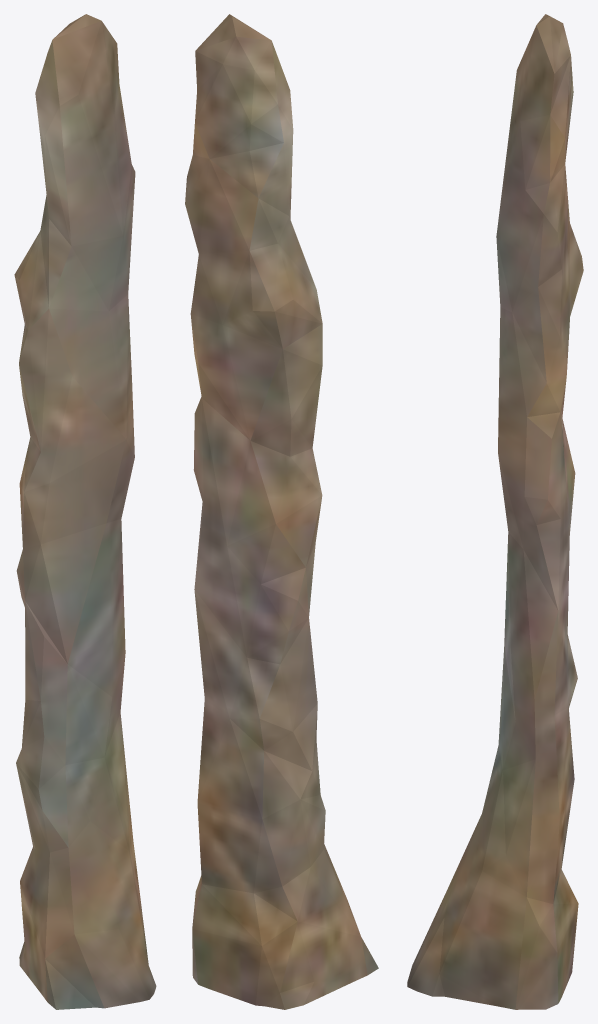
File: Tile__003__007_L21_0003100.glb
The picture shows the model from 3 angles, left to right: view 1: azimuth 30°, elevation 25°; view 2: azimuth 150°, elevation 25°; view 3: azimuth 270°, elevation 25°; orthographic projection. The views are drawn at different scales.
Parts seen in each view (by area): view 1: root; view 2: root; view 3: root.
Boxes of the visible parts, x1=… form: root: x1=14, y1=14, x2=156, y2=1009; root: x1=185, y1=14, x2=378, y2=1009; root: x1=407, y1=14, x2=583, y2=1009.
Size of the model in its own units: 1.38 by 9.31 by 1.53.
Materials: 1 (1 with a texture image).
